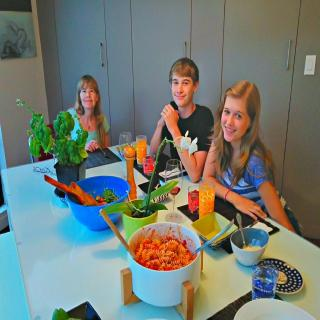Pasta: (136, 238, 194, 270)
